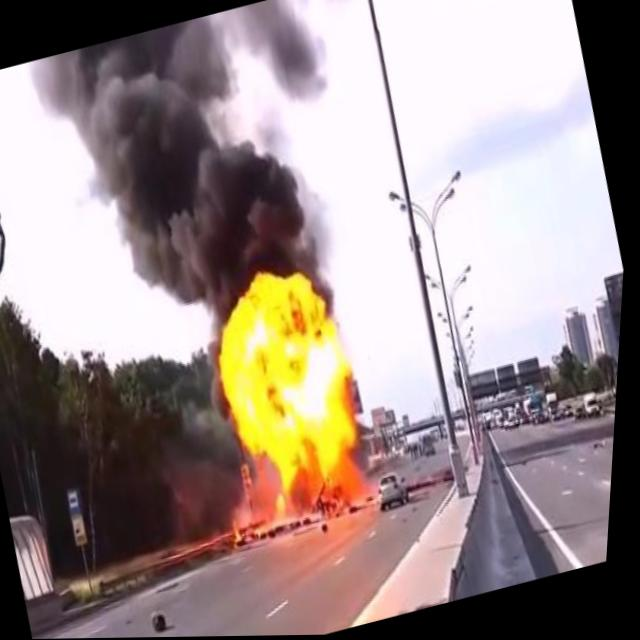fire: (189, 245, 404, 549), (232, 514, 251, 548)
